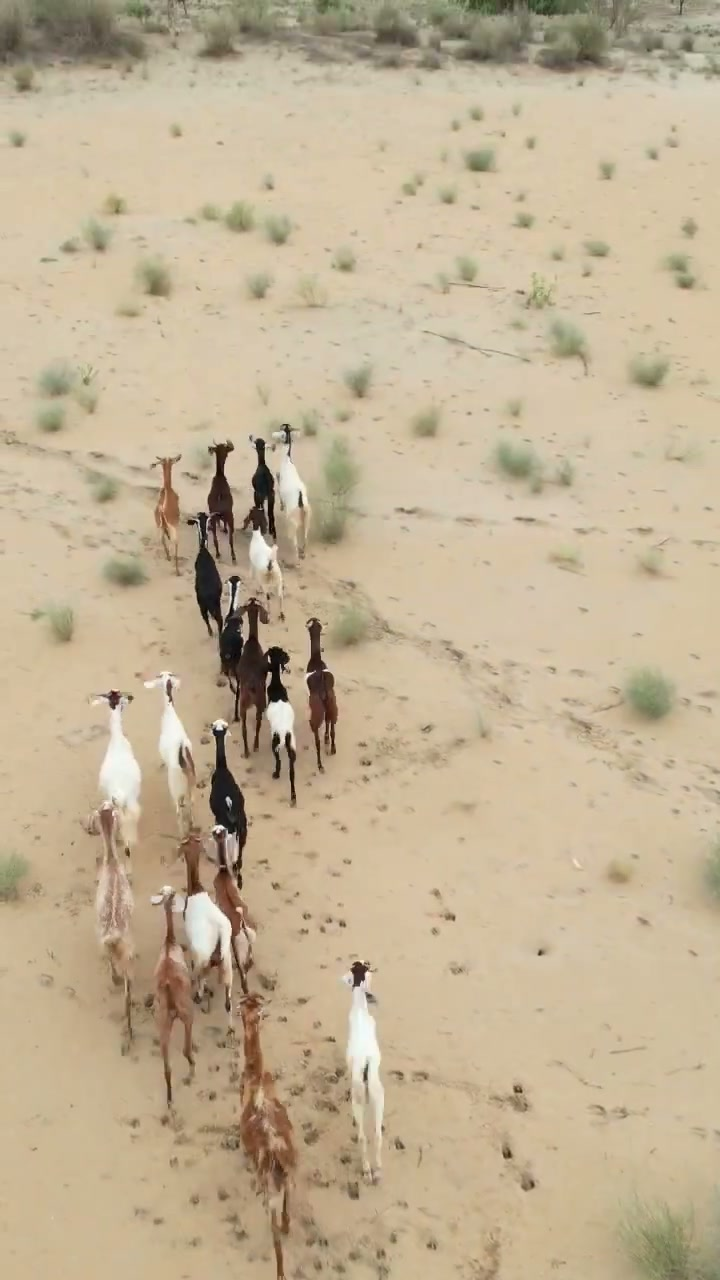animal_footprint: (255, 753, 421, 1279), (158, 1107, 264, 1279)
